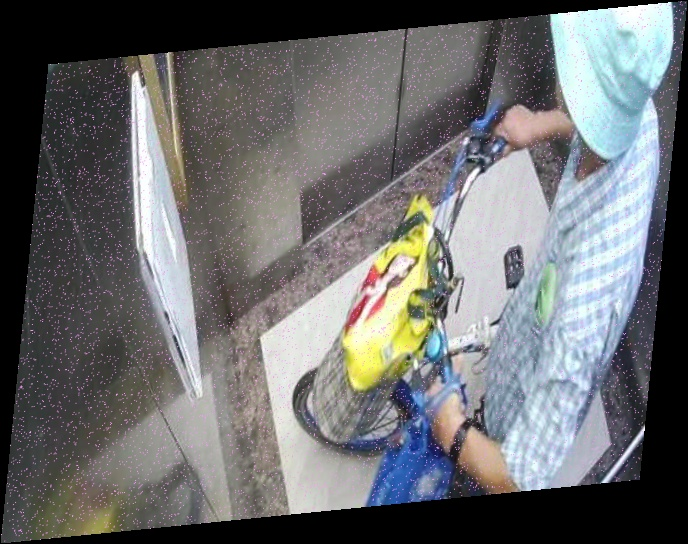bicycle: (292, 106, 543, 463)
person: (412, 1, 662, 533)
